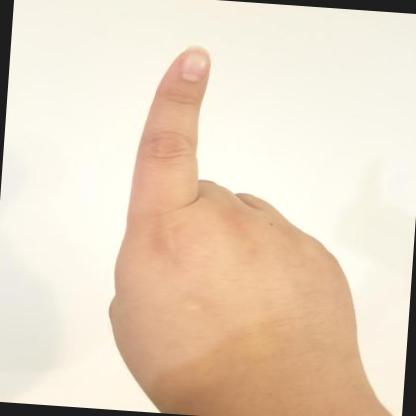D: (109, 46, 374, 416)
